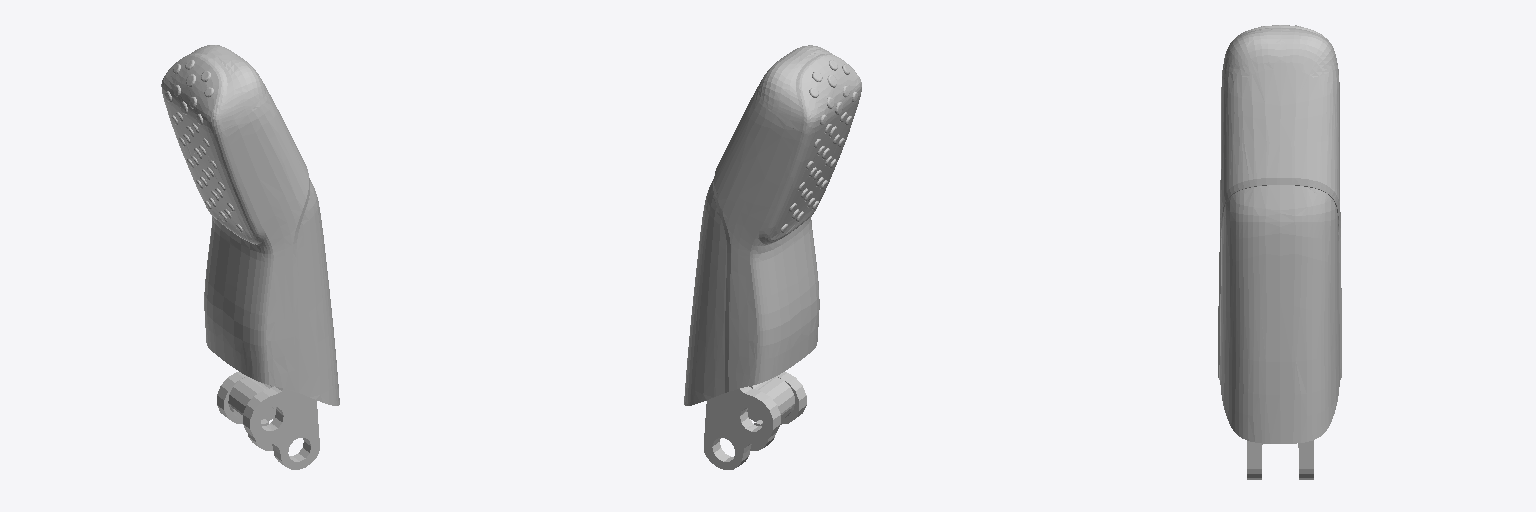
File: right_index_2_collisions.obj
3 renders of one model, left to right at view 1: azimuth 30°, elevation 25°; view 2: azimuth 150°, elevation 25°; view 3: azimuth 270°, elevation 25°, orthographic.
Size of the model in its own units: 0.0228 by 0.0621 by 0.0168.